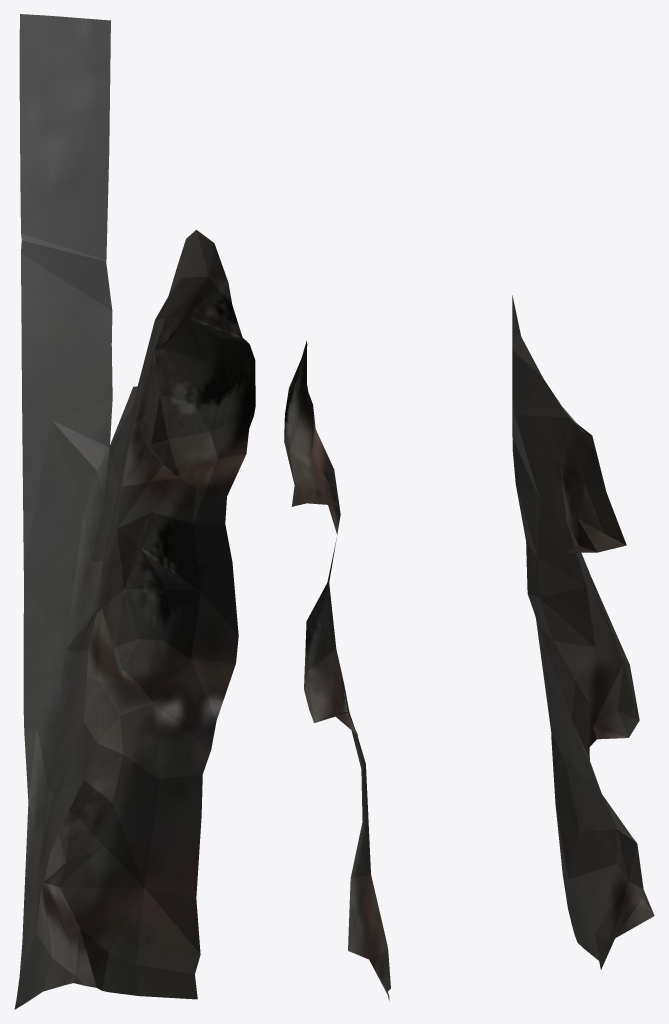
3 renders of one model, left to right at view 1: azimuth 30°, elevation 25°; view 2: azimuth 150°, elevation 25°; view 3: azimuth 270°, elevation 25°, orthographic. The views are drawn at different scales.
Bounding box in the file's own units: 0.1806 × 0.8374 × 0.1163.
Materials: 1 (1 with a texture image).
